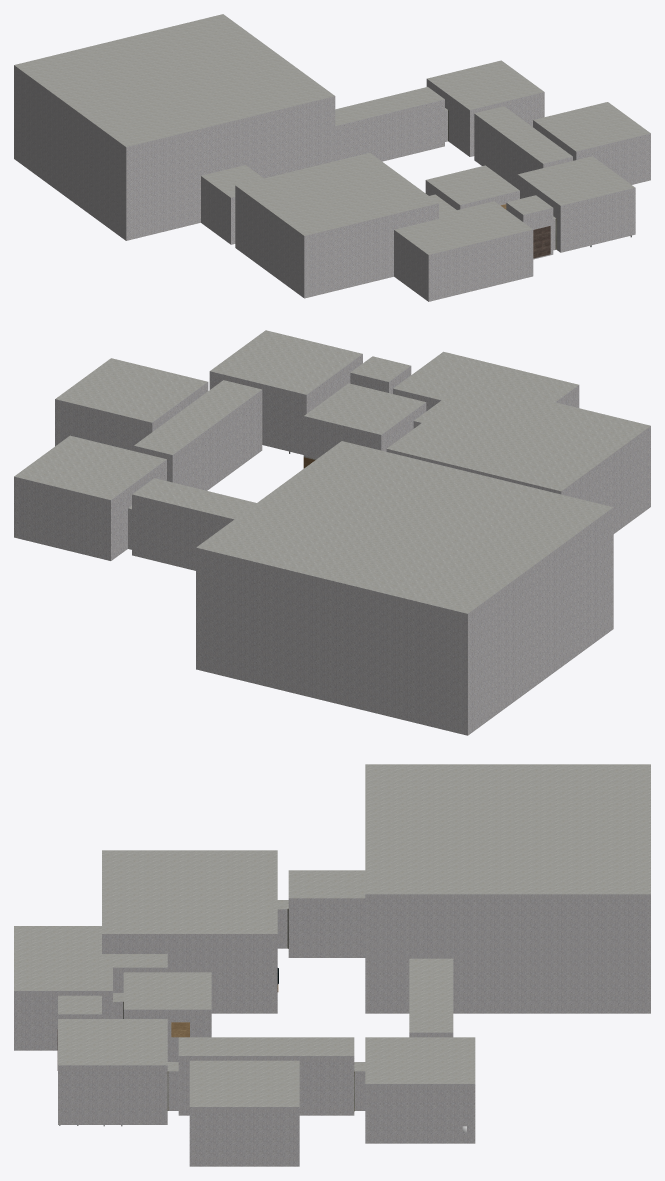
File: chapel.fbx
3 renders of one model, top to bottom at view 1: azimuth 30°, elevation 25°; view 2: azimuth 150°, elevation 25°; view 3: azimuth 270°, elevation 25°, orthographic. The views are drawn at different scales.
Visible parts, largest first — view 1: 1house; view 2: 1house; view 3: 1house.
Boxes of the visible parts, left/top/right/bottom form: 1house: left=14, top=14, right=650, bottom=301; 1house: left=14, top=330, right=650, bottom=735; 1house: left=14, top=764, right=650, bottom=1166.
Size of the model in its own units: 3050 by 643 by 2900.
Materials: 21 (18 with a texture image).
